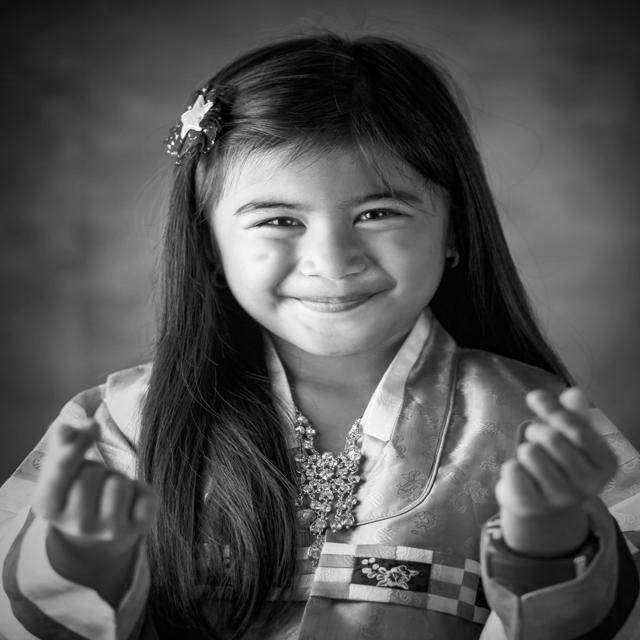Happiness: (207, 138, 455, 364)
